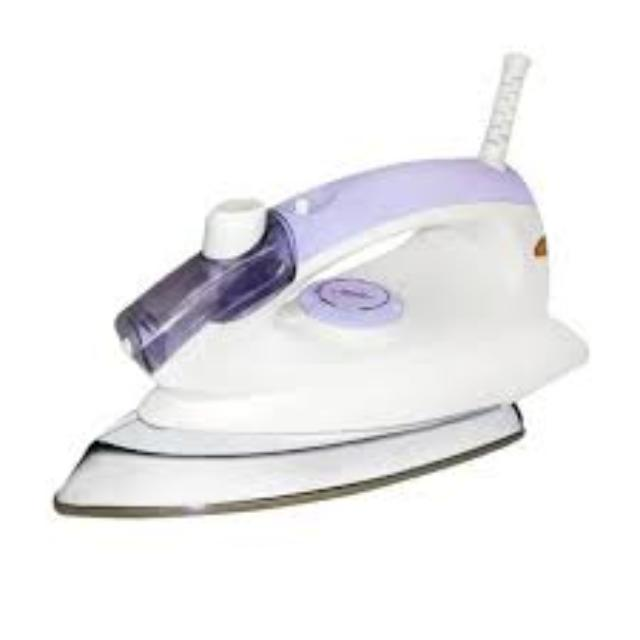Clothes-Iron: (66, 77, 568, 531)
